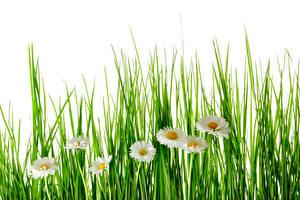chamomile: (26, 162, 57, 178), (201, 116, 226, 133), (159, 128, 183, 145), (130, 146, 155, 161), (91, 158, 109, 174), (183, 139, 204, 151), (69, 139, 90, 147)
